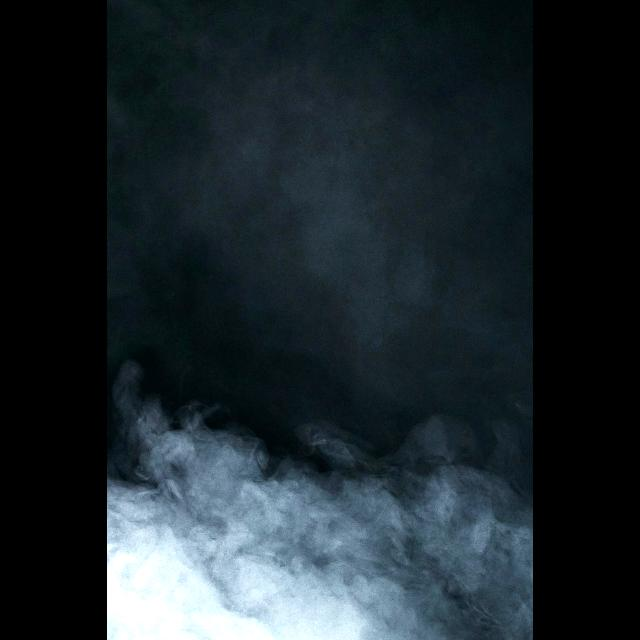smoke: (107, 385, 534, 640)
